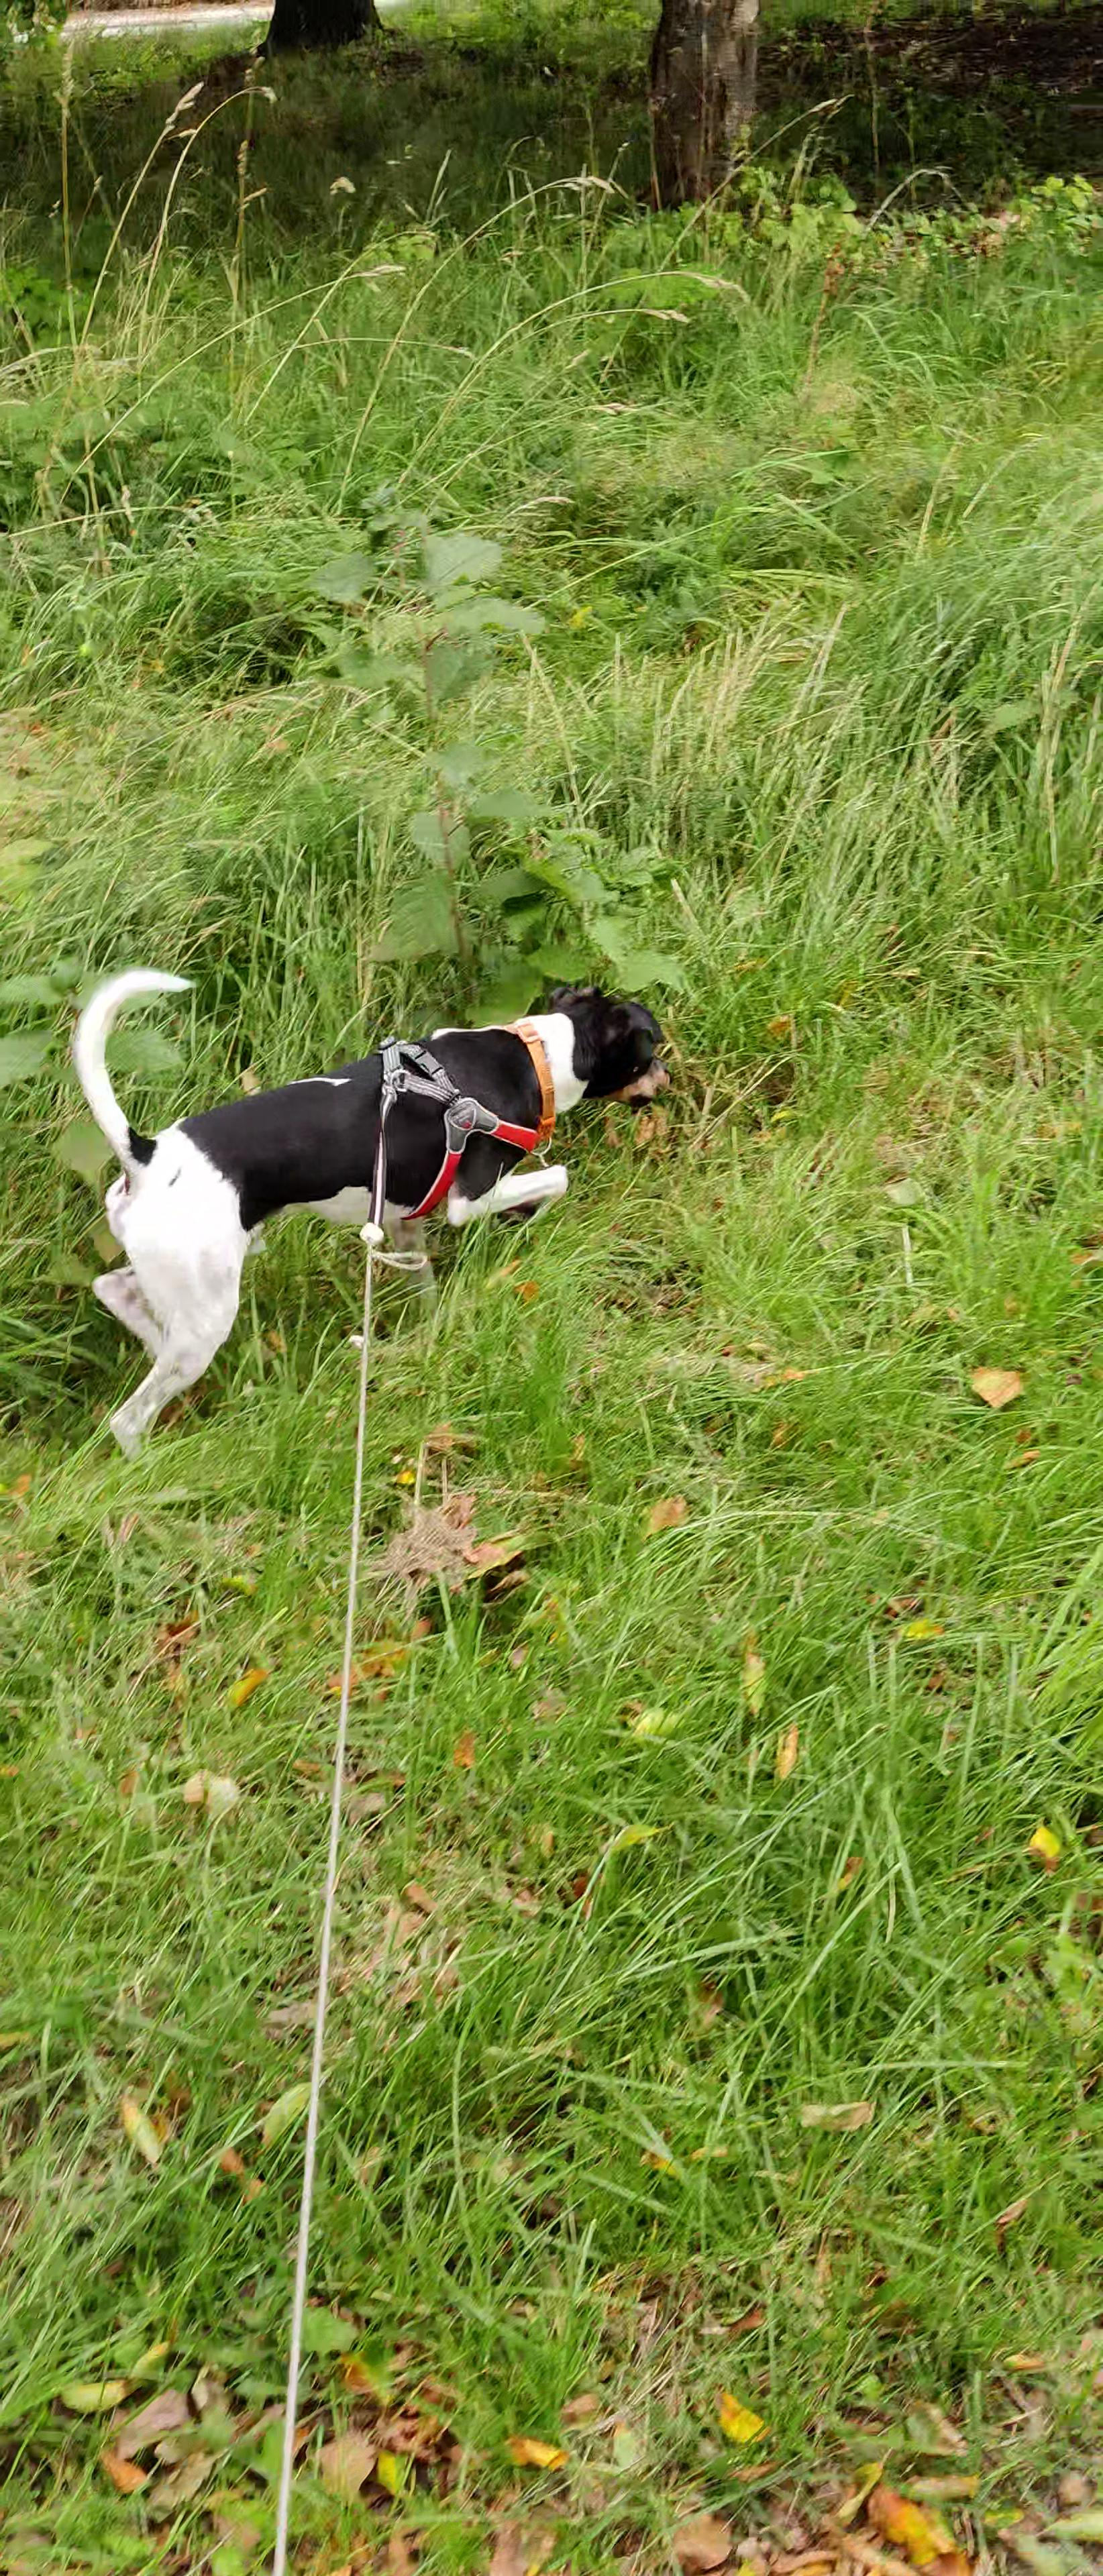Dog: (62, 956, 679, 1459)
